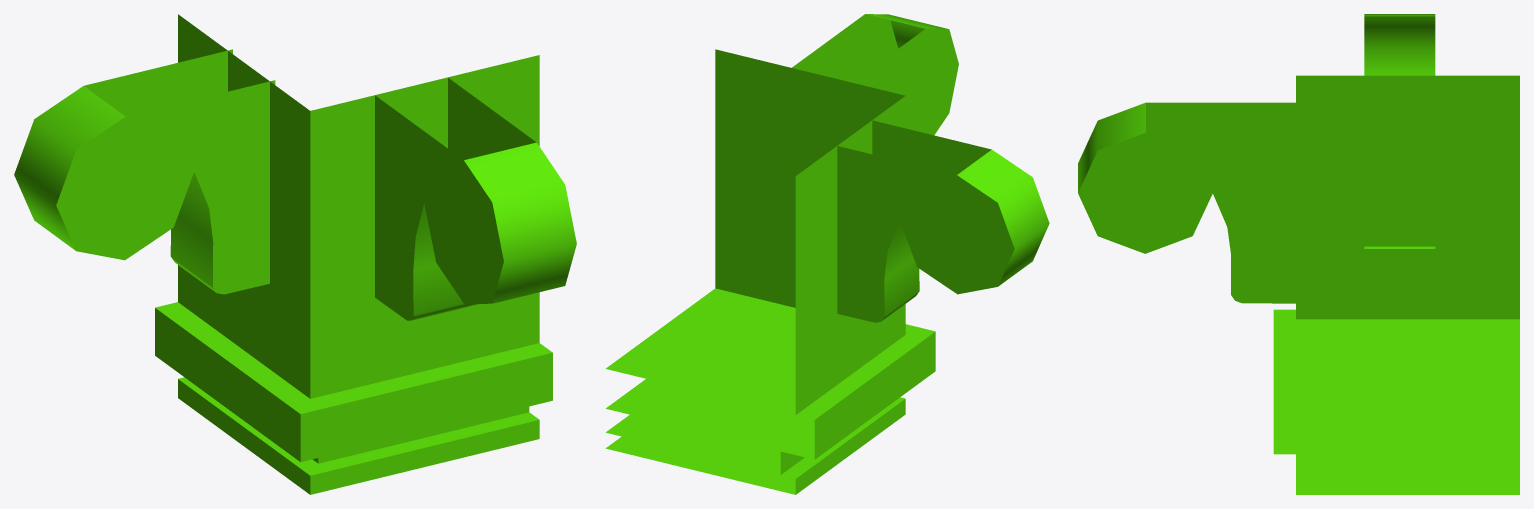
File: SM_town_BD_3Fside.fbx
The picture shows the model from 3 angles, left to right: view 1: azimuth 30°, elevation 25°; view 2: azimuth 150°, elevation 25°; view 3: azimuth 270°, elevation 25°; orthographic projection. The views are drawn at different scales.
Parts seen in each view (by area): view 1: 3F_roofyong_side_low.001; view 2: 3F_roofyong_side_low.001; view 3: 3F_roofyong_side_low.001.
Boxes of the visible parts, bbox=[...] form: 3F_roofyong_side_low.001: bbox=[14, 14, 576, 494]; 3F_roofyong_side_low.001: bbox=[605, 14, 1049, 494]; 3F_roofyong_side_low.001: bbox=[1078, 14, 1519, 494].
Size of the model in its own units: 96.6 by 80 by 98.7.
